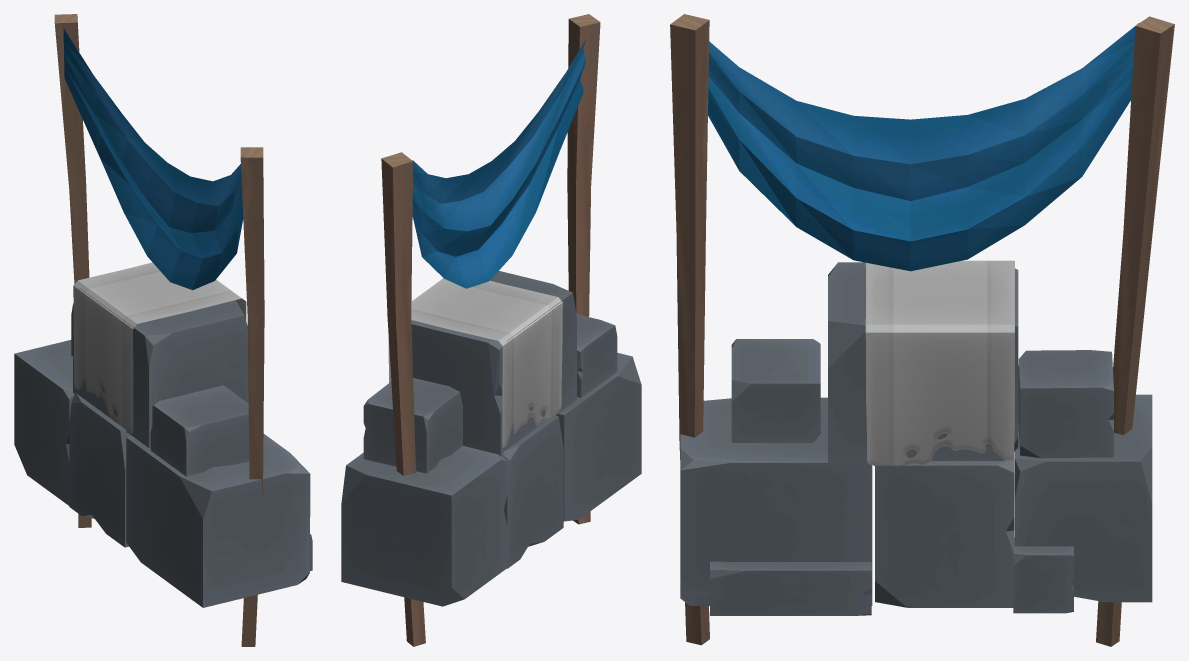
The model's file is Wall1B-002_40_06_0616.fbx.
3 renders of one model, left to right at view 1: azimuth 30°, elevation 25°; view 2: azimuth 150°, elevation 25°; view 3: azimuth 270°, elevation 25°, orthographic. The views are drawn at different scales.
Visible parts, largest first — view 1: 1B_Wall2, Cloth1 (1), Plane_002 (3), Wood1.002 (3), Wood1.002 (2); view 2: 1B_Wall2, Cloth1 (1), Plane_002 (3), Wood1.002 (2), Wood1.002 (3); view 3: 1B_Wall2, Cloth1 (1), Plane_002 (3), Wood1.002 (3), Wood1.002 (2).
Part boxes in pixels (x1=…): 1B_Wall2: x1=14, y1=288, x2=312, y2=607; Cloth1 (1): x1=63, y1=28, x2=243, y2=290; Plane_002 (3): x1=73, y1=262, x2=246, y2=433; Wood1.002 (3): x1=240, y1=147, x2=264, y2=646; Wood1.002 (2): x1=54, y1=14, x2=91, y2=527; 1B_Wall2: x1=341, y1=271, x2=641, y2=606; Cloth1 (1): x1=412, y1=38, x2=586, y2=288; Plane_002 (3): x1=388, y1=278, x2=562, y2=447; Wood1.002 (2): x1=381, y1=152, x2=425, y2=646; Wood1.002 (3): x1=567, y1=14, x2=600, y2=524; 1B_Wall2: x1=680, y1=262, x2=1152, y2=615; Cloth1 (1): x1=708, y1=23, x2=1138, y2=271; Plane_002 (3): x1=865, y1=260, x2=1014, y2=465; Wood1.002 (3): x1=670, y1=14, x2=709, y2=645; Wood1.002 (2): x1=1096, y1=16, x2=1174, y2=646.
Bounding box in the file's own units: 1.12 × 4.28 × 3.16.
